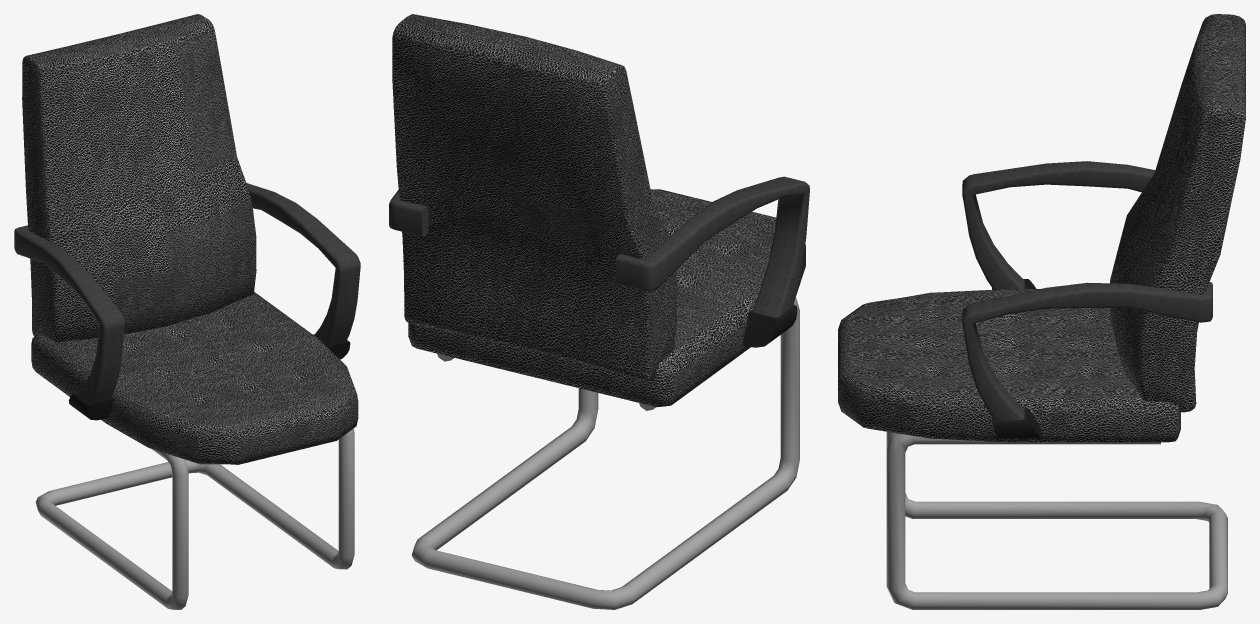
Rendered from CK-dengzi0001-CJBZ.FBX.
3 renders of one model, left to right at view 1: azimuth 30°, elevation 25°; view 2: azimuth 150°, elevation 25°; view 3: azimuth 270°, elevation 25°, orthographic. The views are drawn at different scales.
Parts seen in each view (by area): view 1: CK-dendengzi0001-CJBZ; view 2: CK-dendengzi0001-CJBZ; view 3: CK-dendengzi0001-CJBZ.
Part boxes in pixels (x1=…): CK-dendengzi0001-CJBZ: x1=14, y1=14, x2=360, y2=609; CK-dendengzi0001-CJBZ: x1=389, y1=14, x2=809, y2=609; CK-dendengzi0001-CJBZ: x1=838, y1=14, x2=1245, y2=609.
Size of the model in its own units: 0.7462 by 1.22 by 0.8977.
3 materials, 1 textured.
